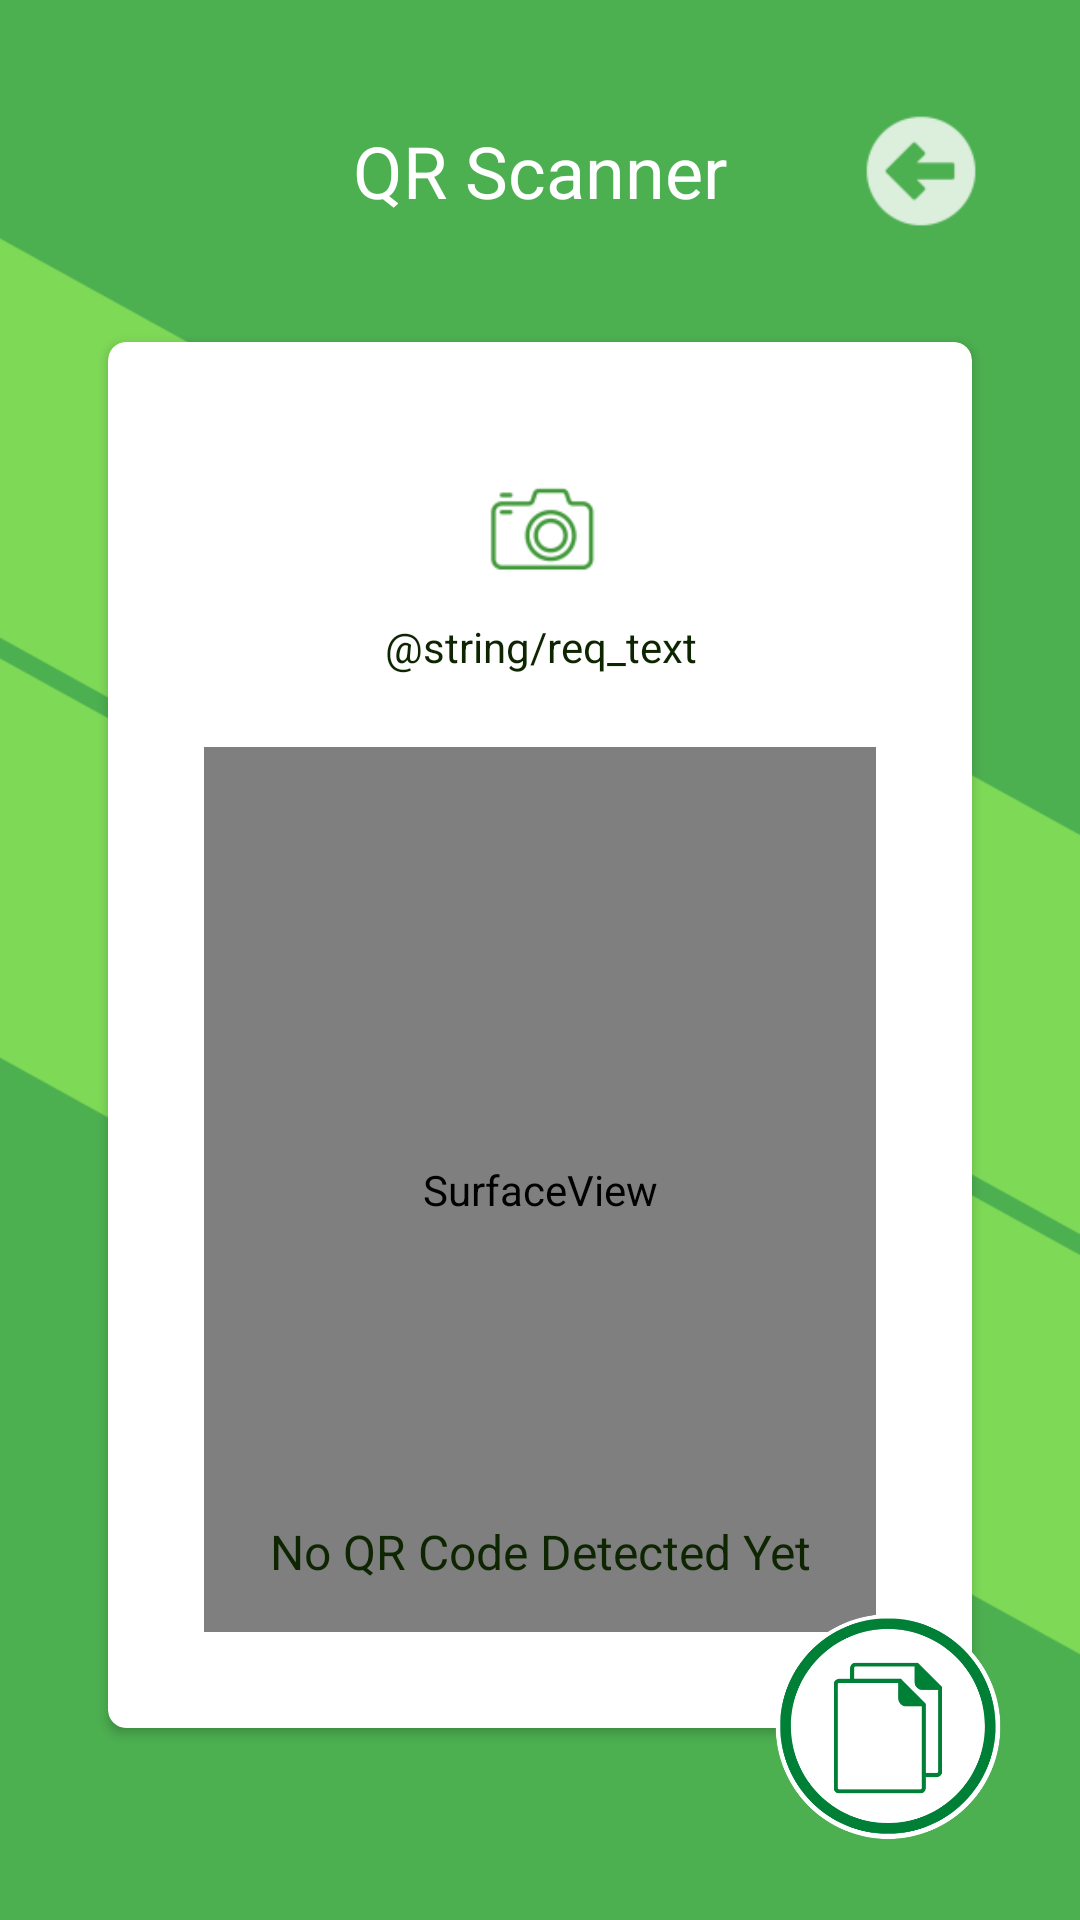

Where to tap for icons on this 1080x1920 app screen, as point (x, y):
back: point (921, 171)
